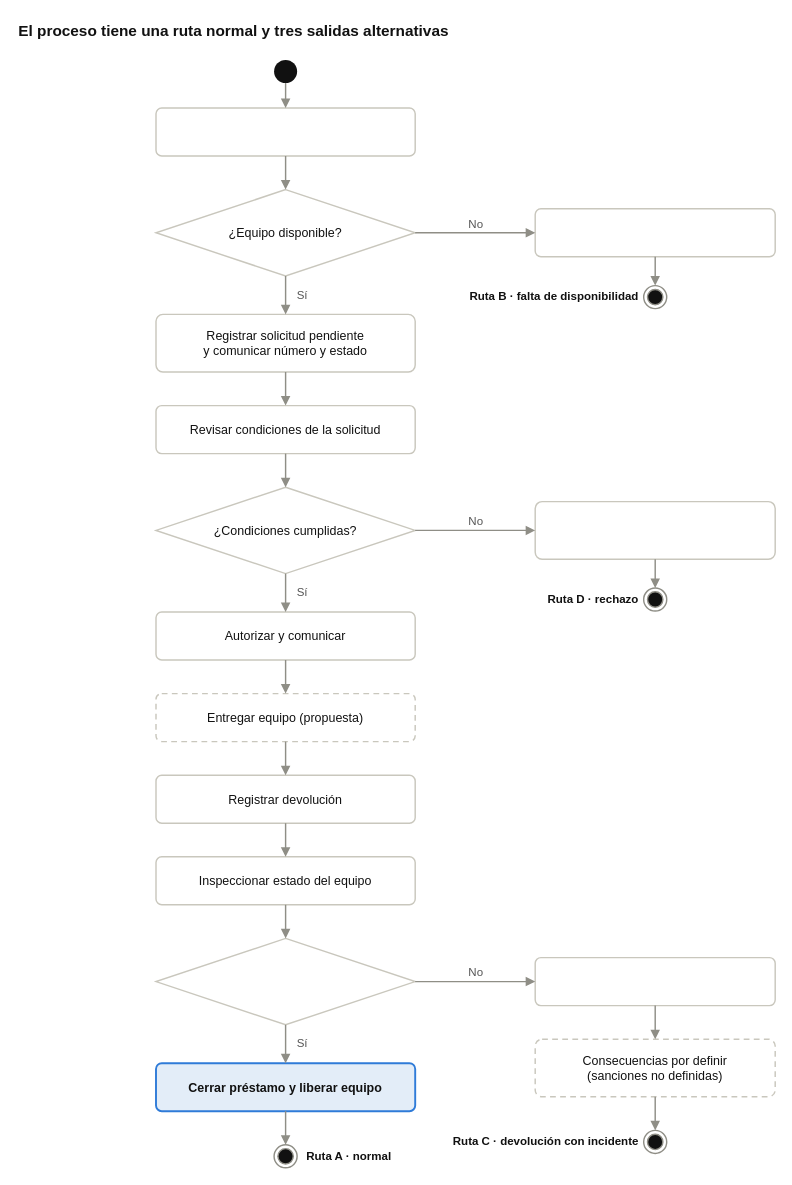
This 792x1185 diagram has some shape labels left out. The centre of each missing label's shape, as x and y in pixels:
"Consultar disponibilidad" belongs at pixel 285 131.
"Informar falta de disponibilidad" belongs at pixel 654 232.
"Rechazar y comunicar al solicitante" belongs at pixel 654 529.
"Registrar incidente" belongs at pixel 654 981.
"¿Estado conforme?" belongs at pixel 285 981.
